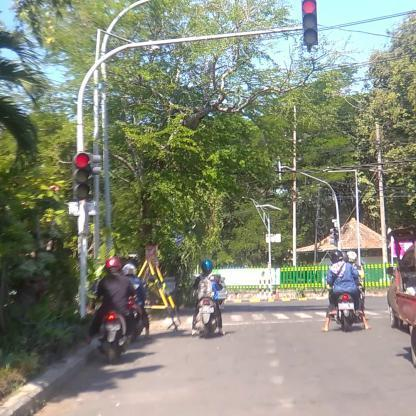red: (70, 153, 90, 201), (300, 1, 319, 46)
